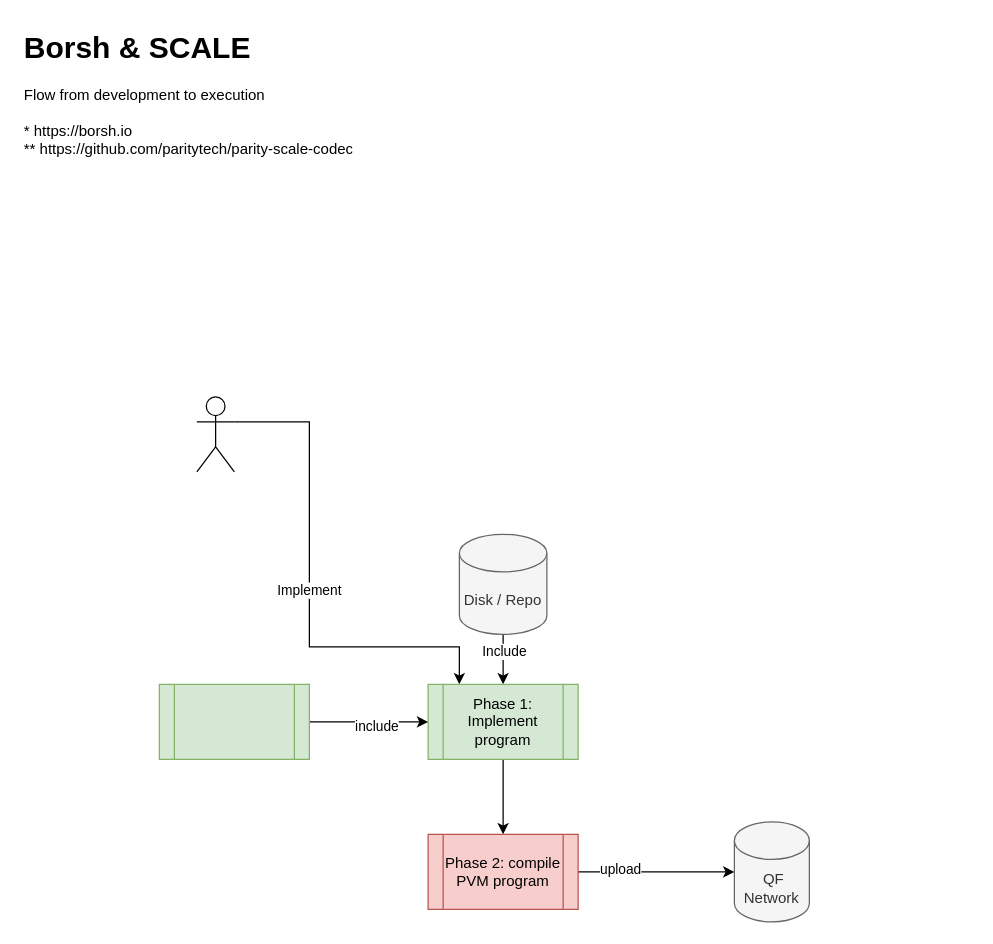
Image size: 993x944. Some labels were removed from this diagram. Each missing label, with the box of its shape:
Actor: (196, 396, 234, 472)
QF SmartContract Framework: (158, 683, 309, 759)
